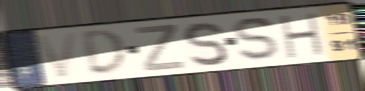D: (79, 28, 130, 77)
H: (278, 10, 326, 62)
S: (230, 15, 286, 64), (181, 20, 231, 69)
V: (33, 30, 80, 82)
Z: (133, 23, 188, 73)
